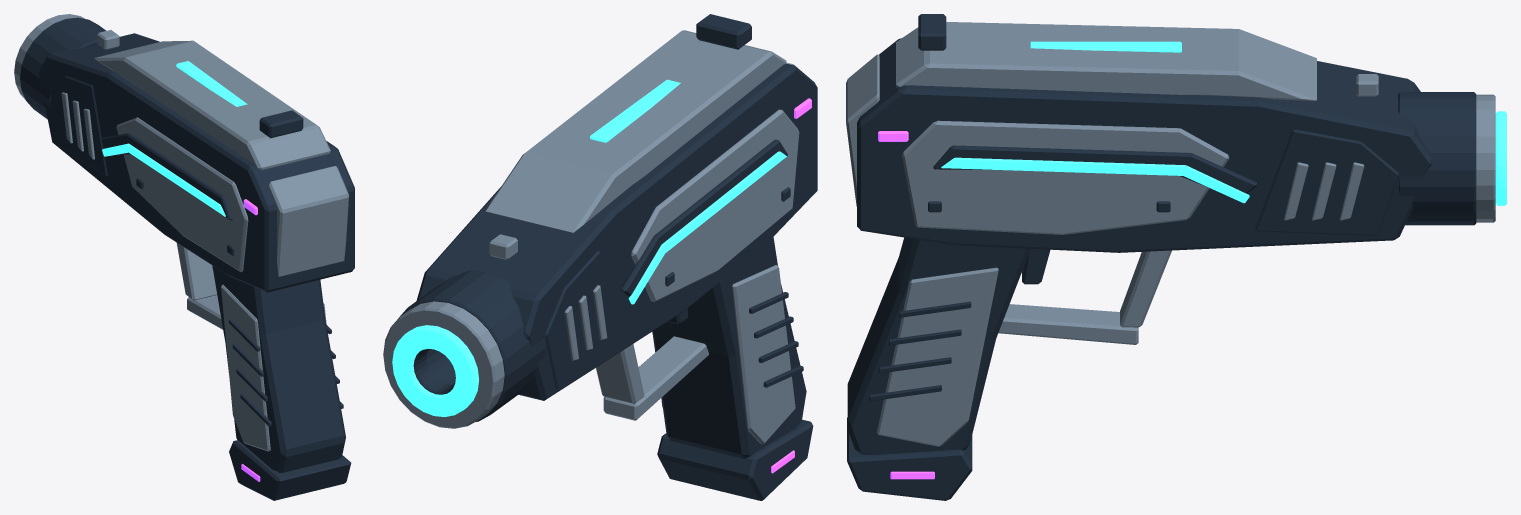
Rendered from NeonBlaster.fbx.
The picture shows the model from 3 angles, left to right: view 1: azimuth 30°, elevation 25°; view 2: azimuth 150°, elevation 25°; view 3: azimuth 270°, elevation 25°; orthographic projection. The views are drawn at different scales.
Parts seen in each view (by area): view 1: NeonBlasterMesh; view 2: NeonBlasterMesh; view 3: NeonBlasterMesh.
Part boxes in pixels (x1,y1,x2,y2): NeonBlasterMesh: [14, 14, 354, 500]; NeonBlasterMesh: [383, 14, 817, 500]; NeonBlasterMesh: [846, 14, 1506, 500].
Size of the model in its own units: 0.0559 by 0.1804 by 0.2369.
